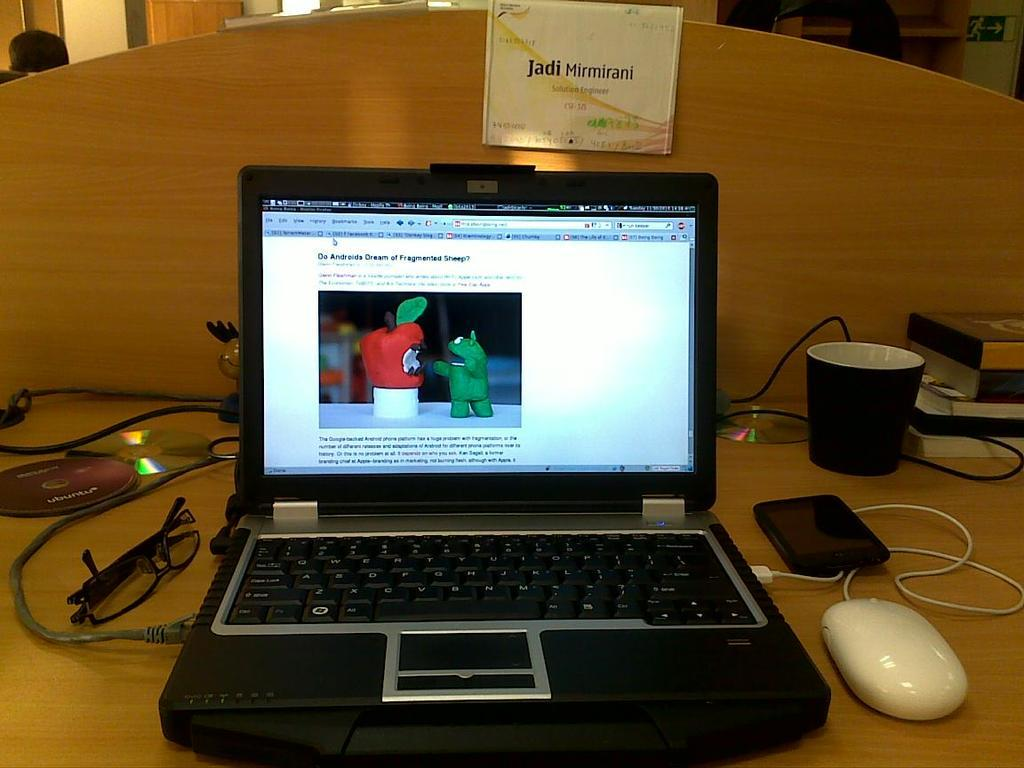Computer-mouse: (820, 593, 969, 723)
